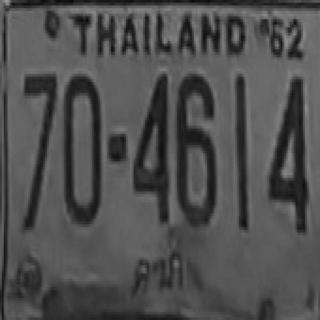N00: (62, 72, 100, 223)
N01: (233, 74, 247, 219)
N04: (267, 74, 307, 230), (132, 71, 168, 222)
N06: (175, 71, 215, 224)
N07: (22, 71, 56, 219), (22, 71, 56, 200), (22, 71, 56, 186), (22, 71, 56, 172), (22, 71, 56, 161)
P69: (130, 245, 191, 303)
